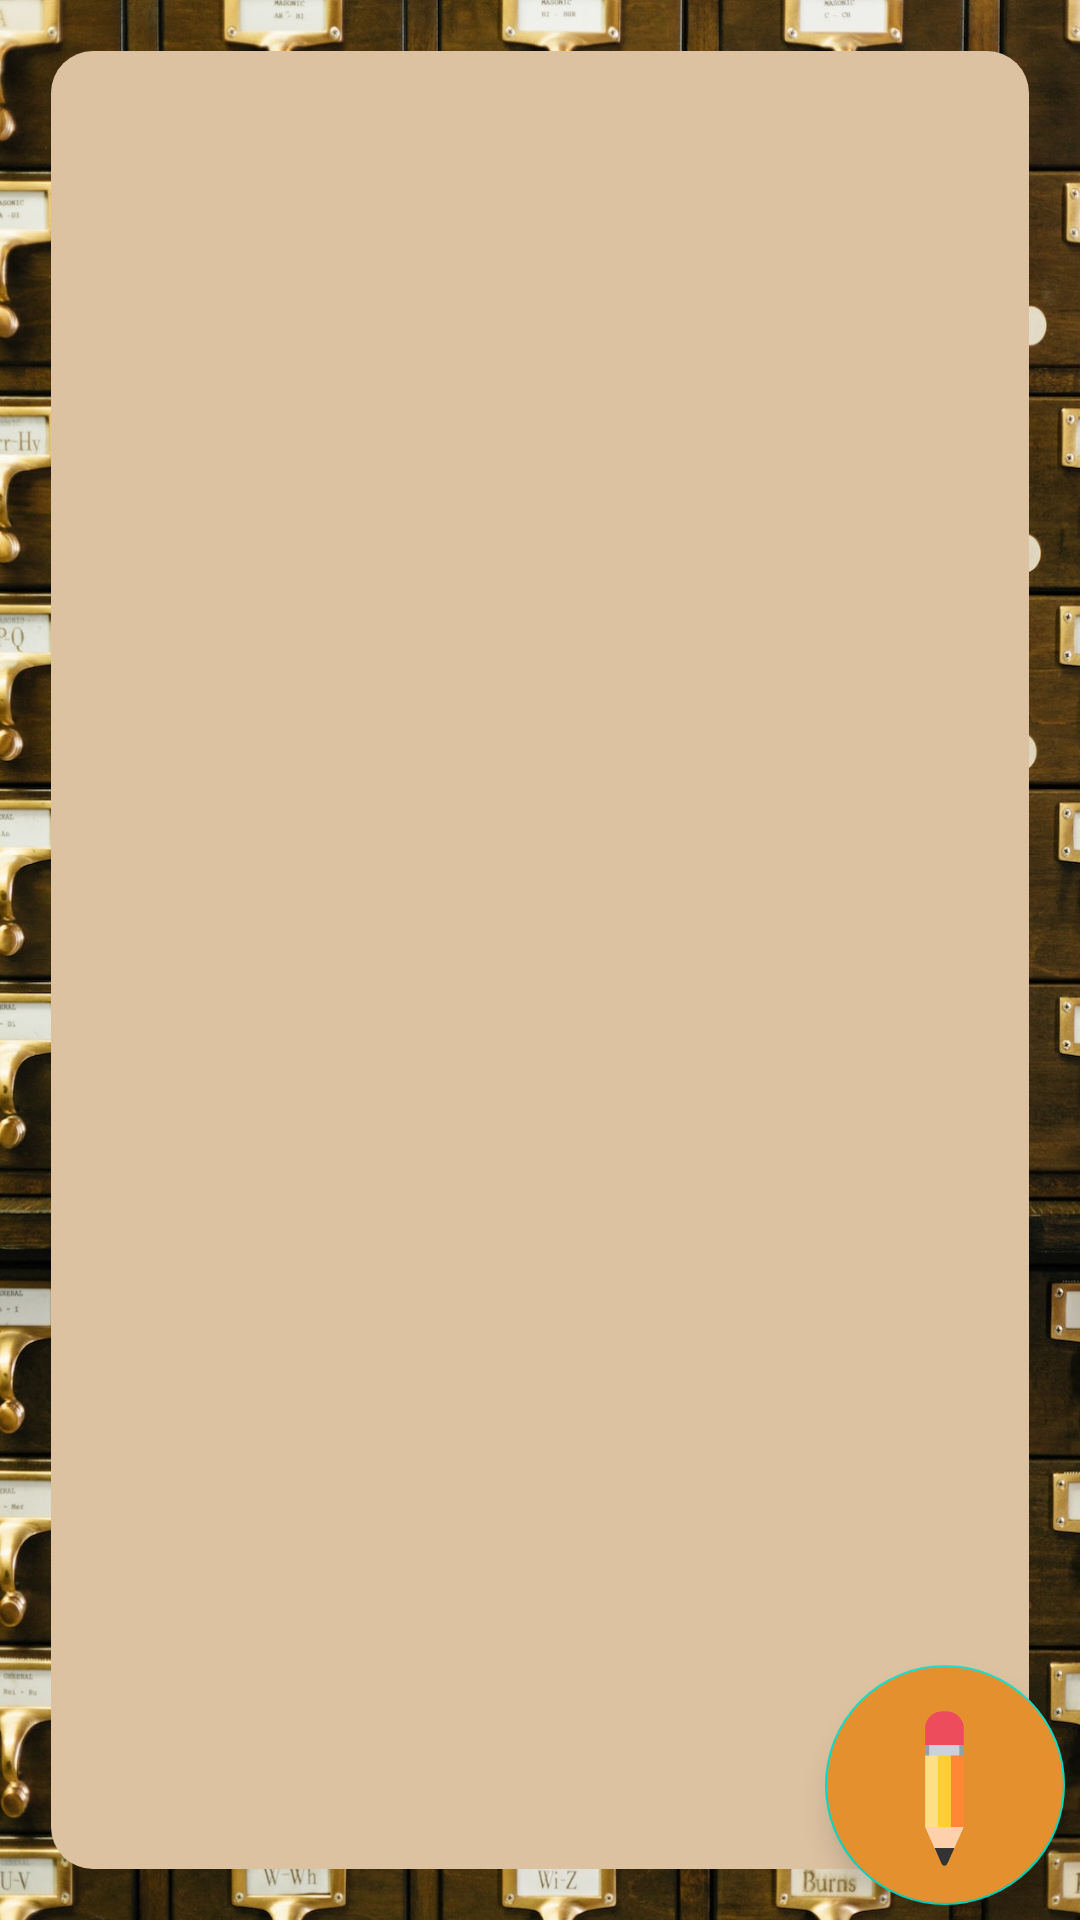

Icons on this 1080px x 1920px Android screen, each with the point to tap as [x,y]:
pencil: [945,1785]
